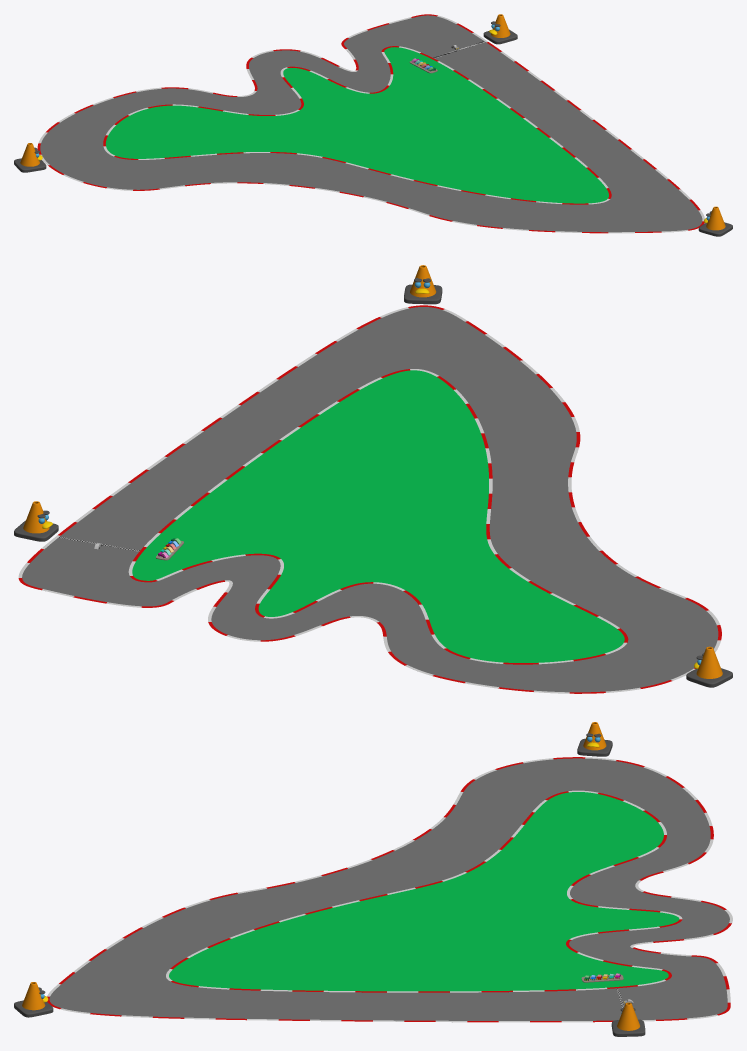
The model's file is Track005.fbx.
3 views of the same model, one above another, from view 1: azimuth 30°, elevation 25°; view 2: azimuth 150°, elevation 25°; view 3: azimuth 270°, elevation 25° (orthographic). The views are drawn at different scales.
Visible parts, largest first — view 1: Track.001, Island_00; view 2: Track.001, Island_00; view 3: Track.001, Island_00.
Part boxes in pixels (x1,y1,x2,y2): Track.001: (40, 15, 702, 232); Island_00: (105, 47, 608, 203); Track.001: (22, 307, 718, 692); Island_00: (132, 370, 624, 662); Track.001: (49, 758, 729, 1020); Island_00: (169, 792, 679, 991).
Size of what is drawn, in the model's own units: 449 by 462 by 18.57.
